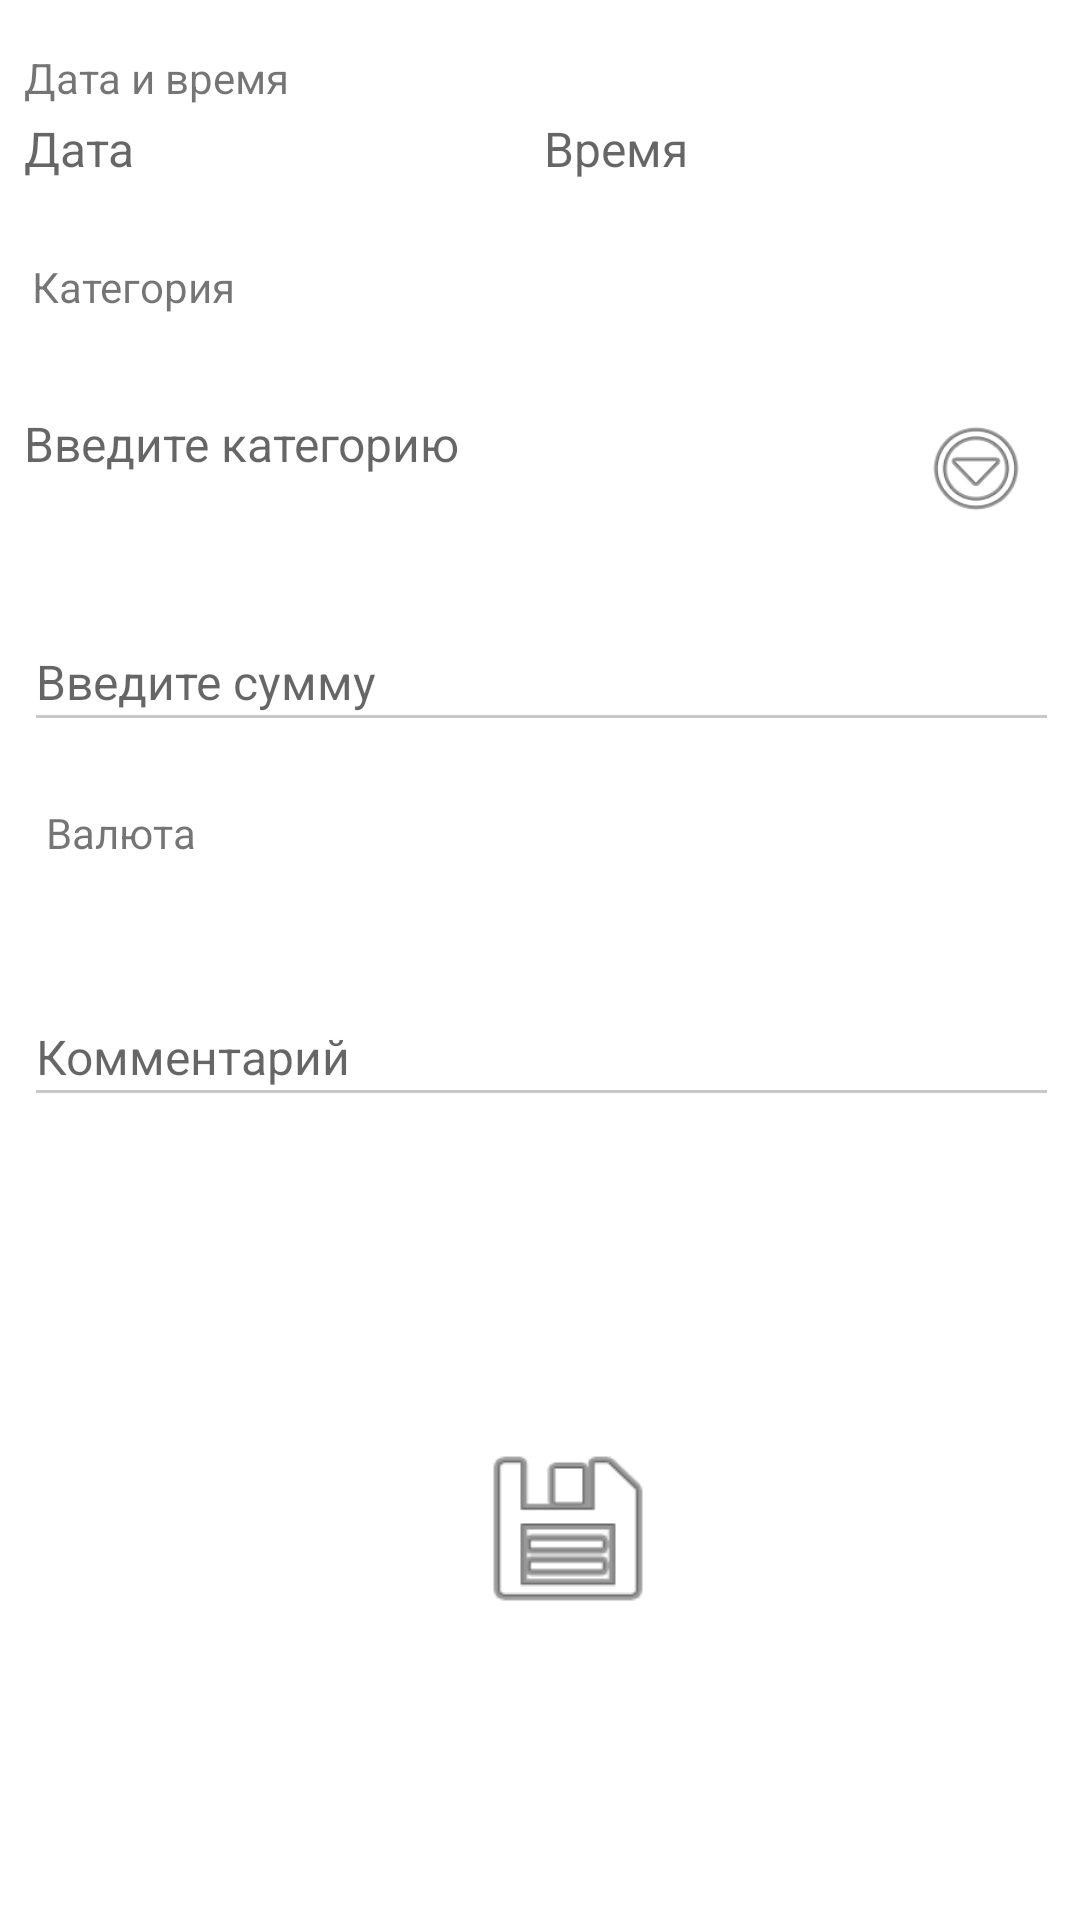

Screen size 1080×1920. Icon name, then its center in pixels as (x,y):
more: (976,468)
save: (568,1528)
